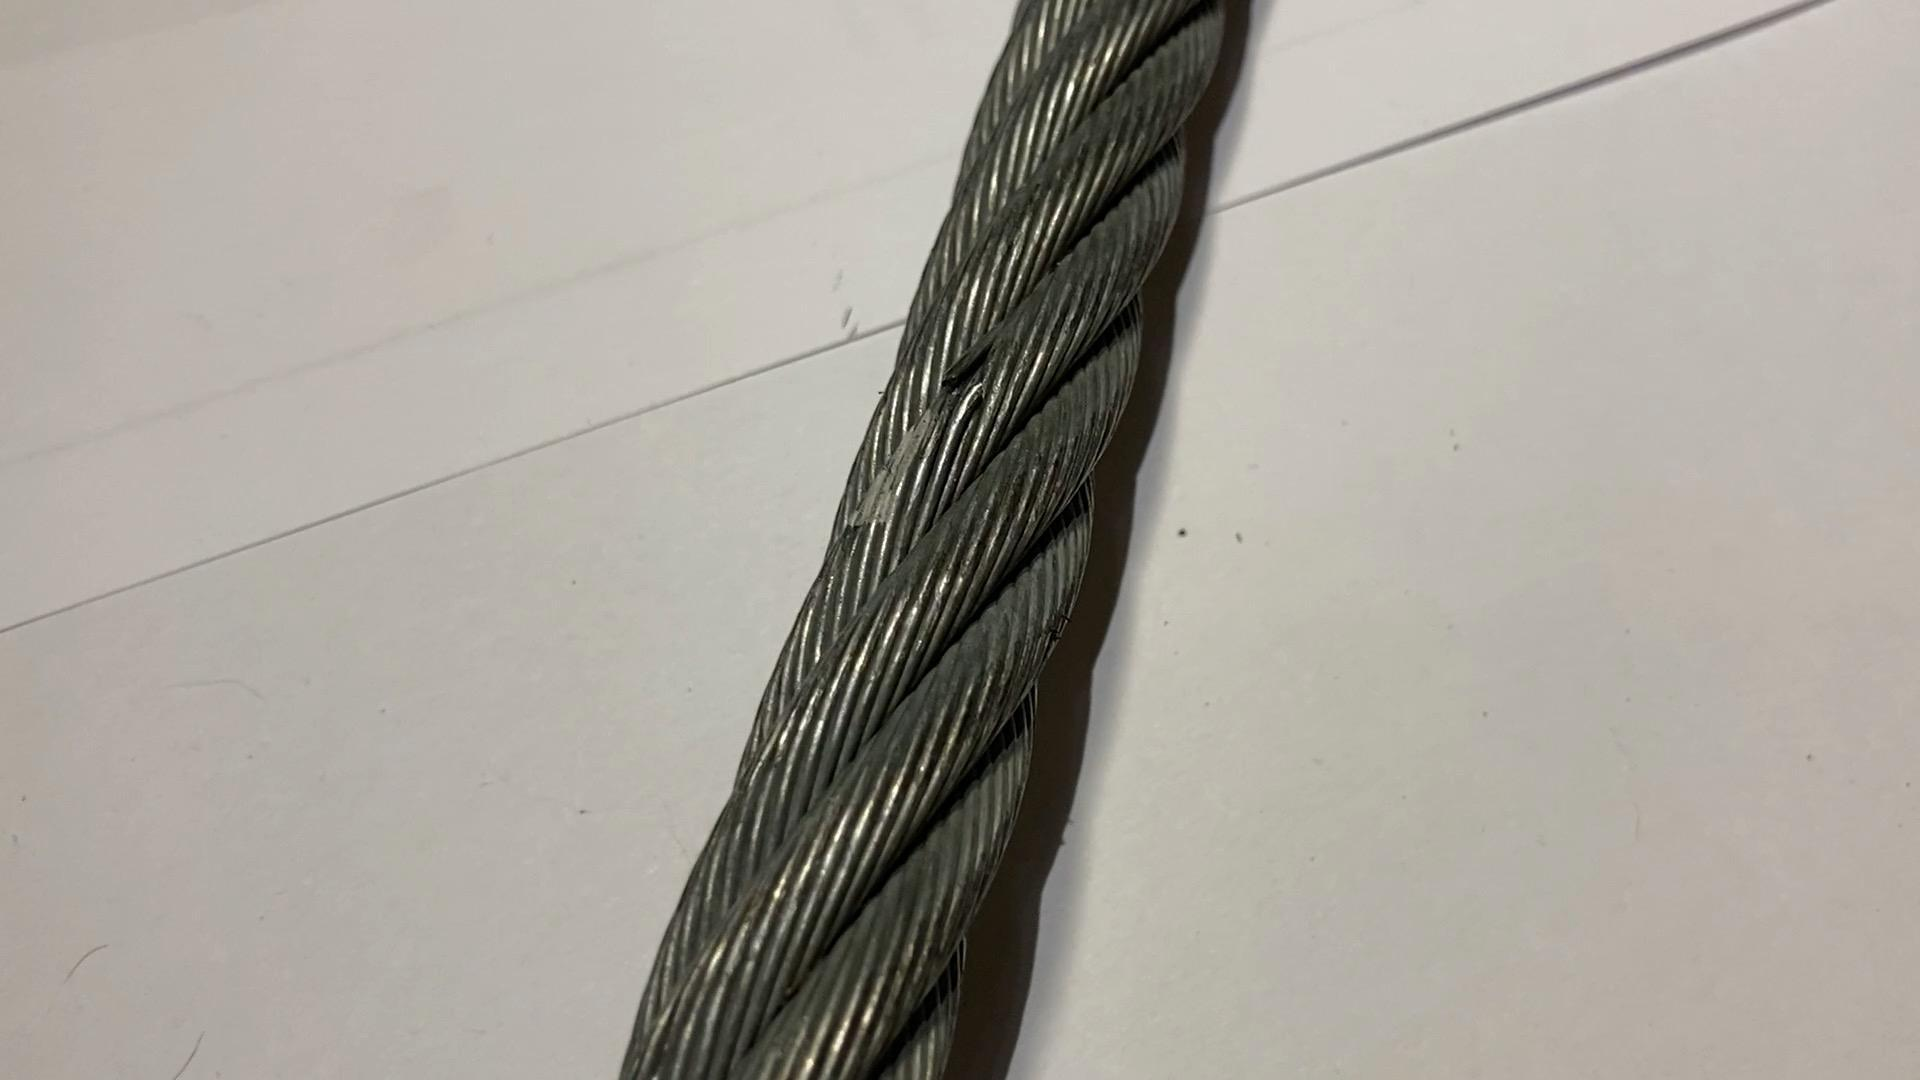break: (932, 342, 1006, 418)
